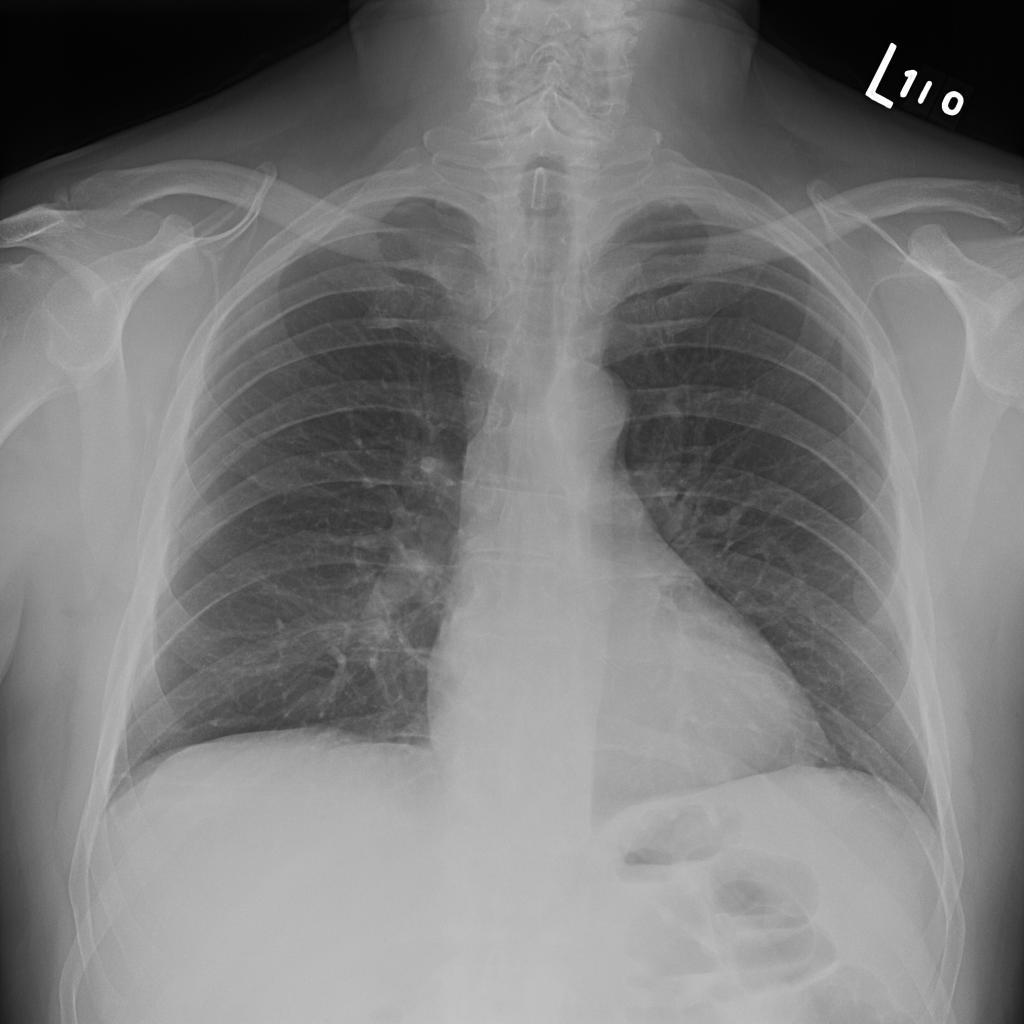Nodule: (158, 303, 193, 337), (318, 406, 345, 432)
